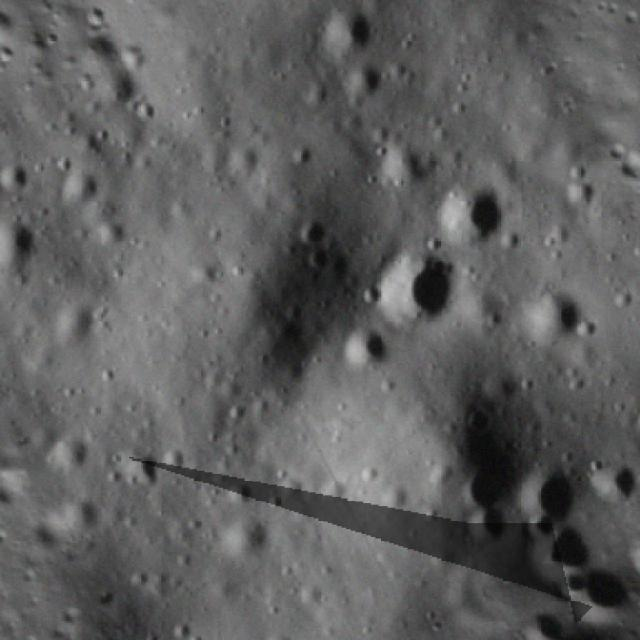crater: (357, 226, 480, 354), (418, 165, 524, 266), (292, 0, 386, 86), (511, 448, 598, 530), (0, 201, 62, 294), (327, 316, 404, 389), (524, 283, 596, 359), (516, 514, 596, 572), (113, 444, 176, 507), (624, 396, 640, 455), (300, 0, 364, 12)
